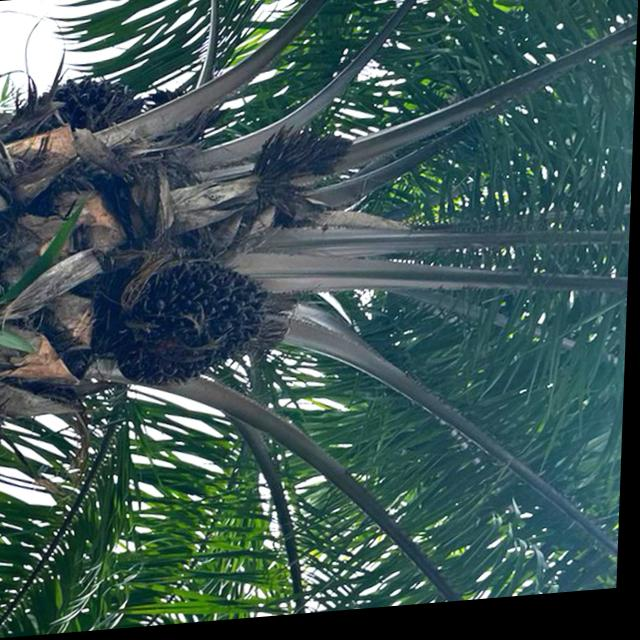almost: (107, 246, 280, 396), (39, 60, 156, 147)
